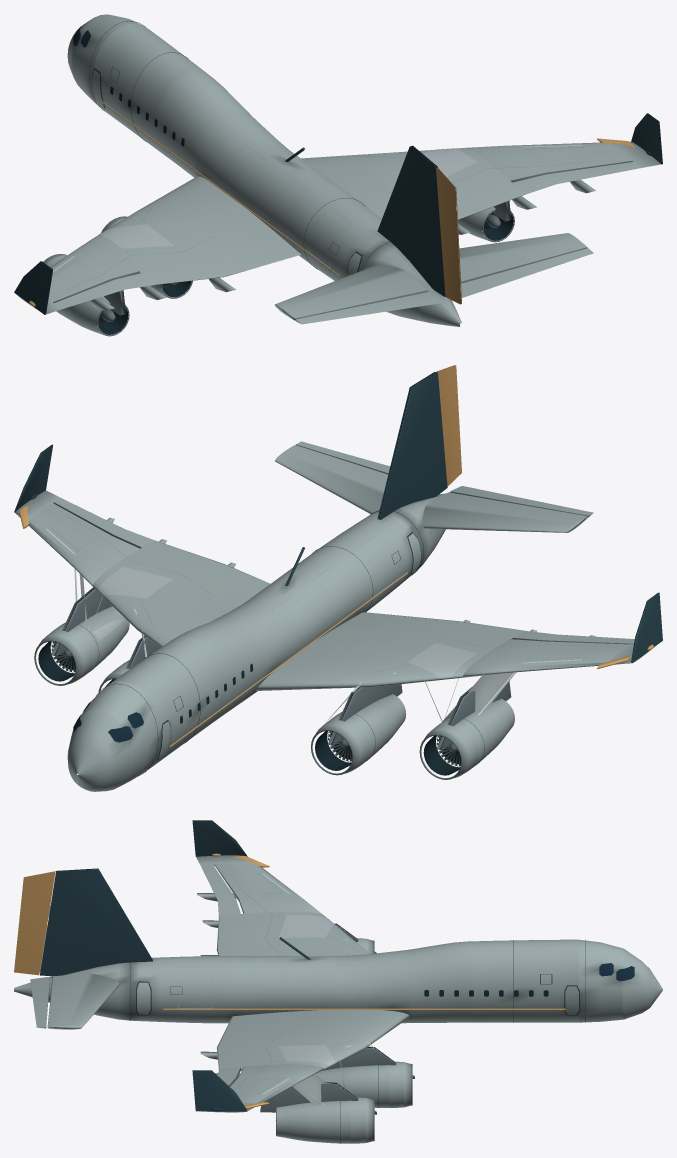
Rendered from player-leviathan-hero-v3.glb.
3 renders of one model, top to bottom at view 1: azimuth 30°, elevation 25°; view 2: azimuth 150°, elevation 25°; view 3: azimuth 270°, elevation 25°, orthographic. The views are drawn at different scales.
Parts seen in each view (by area): view 1: hull, trim, service-markings, rudder, elevator-right, elevator-left, aileron-right, metal, dark, aileron-left, accent; view 2: hull, trim, service-markings, metal, dark, rudder, aileron-right, elevator-left, aileron-left, accent, cabin, elevator-right; view 3: hull, trim, service-markings, rudder, metal, accent, aileron-left, elevator-right, cabin.
Boxes of the visible parts, left/top/right/bottom form: hull: left=16, top=14, right=661, bottom=334; trim: left=14, top=21, right=662, bottom=314; service-markings: left=52, top=140, right=600, bottom=290; rudder: left=436, top=167, right=461, bottom=304; elevator-right: left=461, top=248, right=593, bottom=297; elevator-left: left=296, top=291, right=440, bottom=324; aileron-right: left=512, top=161, right=640, bottom=194; metal: left=43, top=201, right=514, bottom=336; dark: left=97, top=212, right=513, bottom=334; aileron-left: left=54, top=273, right=154, bottom=309; accent: left=29, top=100, right=635, bottom=306; hull: left=15, top=445, right=653, bottom=791; trim: left=14, top=372, right=662, bottom=776; service-markings: left=46, top=516, right=596, bottom=721; metal: left=34, top=587, right=511, bottom=779; dark: left=38, top=641, right=460, bottom=775; rudder: left=436, top=365, right=461, bottom=486; aileron-right: left=53, top=498, right=154, bottom=548; elevator-left: left=450, top=486, right=593, bottom=517; aileron-left: left=512, top=631, right=634, bottom=644; accent: left=19, top=505, right=653, bottom=747; cabin: left=73, top=664, right=253, bottom=742; elevator-right: left=296, top=441, right=390, bottom=474; hull: left=14, top=855, right=662, bottom=1143; trim: left=40, top=820, right=585, bottom=1143; service-markings: left=178, top=873, right=376, bottom=1105; rudder: left=14, top=871, right=55, bottom=975; metal: left=260, top=923, right=414, bottom=1141; accent: left=163, top=853, right=565, bottom=1108; aileron-left: left=200, top=864, right=240, bottom=915; elevator-right: left=30, top=976, right=49, bottom=1028; cabin: left=424, top=963, right=634, bottom=996.
Bounding box in the file's own units: 65.56 × 22.96 × 70.
